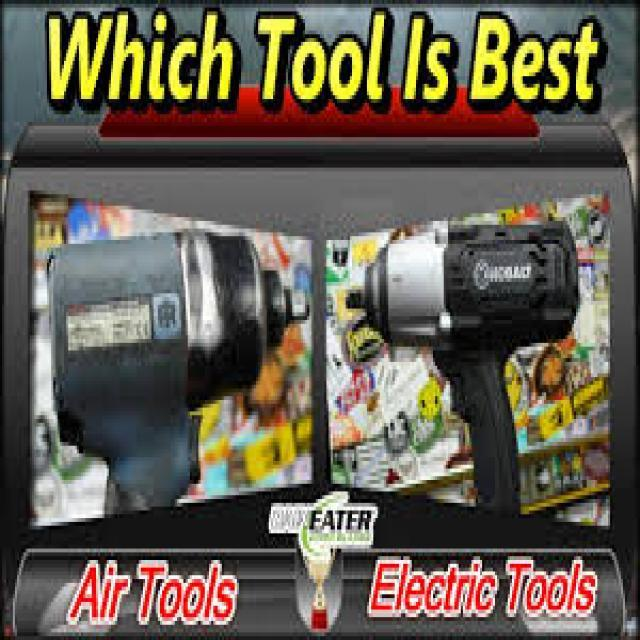drill: (45, 226, 311, 516), (340, 212, 582, 522)
